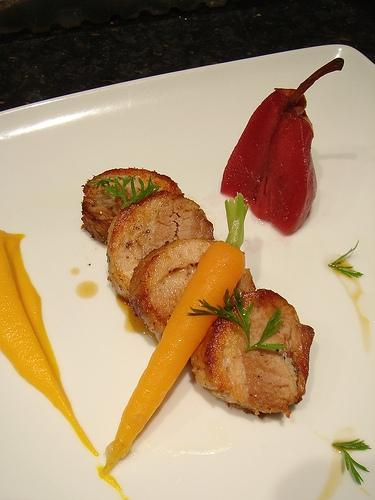carrot: (102, 192, 249, 475), (0, 230, 100, 457)
